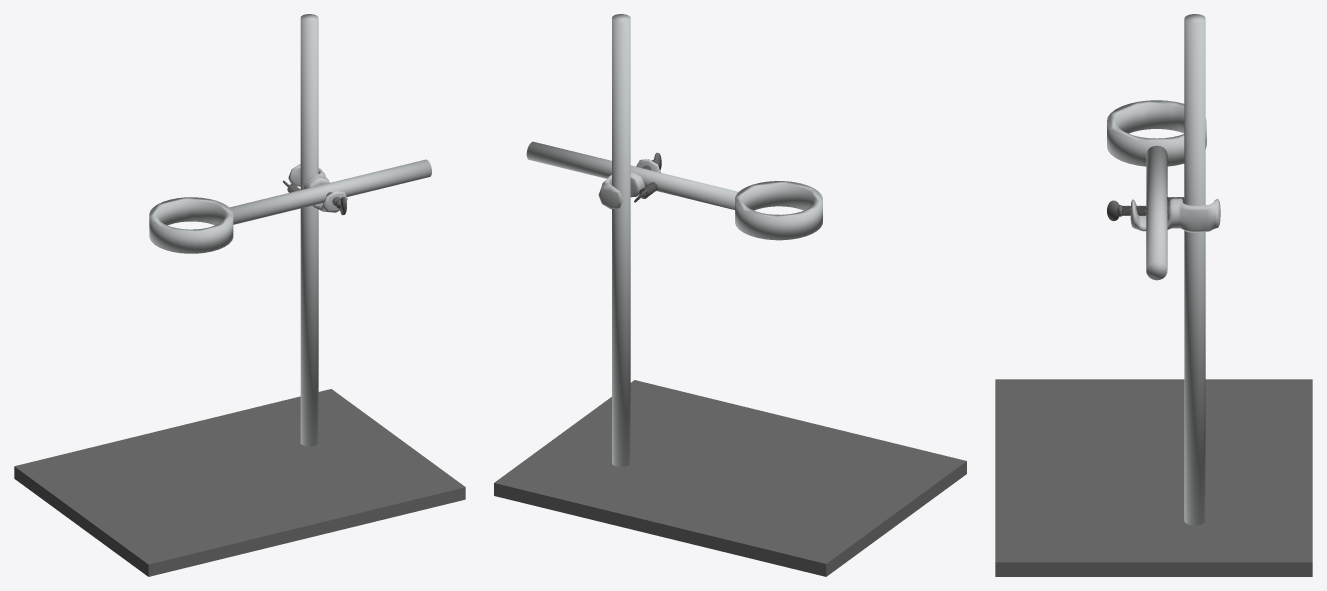
Rendered from FunnelStand.gltf.
3 renders of one model, left to right at view 1: azimuth 30°, elevation 25°; view 2: azimuth 150°, elevation 25°; view 3: azimuth 270°, elevation 25°, orthographic. The views are drawn at different scales.
Parts seen in each view (by area): view 1: Cylinder.028, Cube.006, Cube.001; view 2: Cylinder.028, Cube.006, Cube.001; view 3: Cylinder.028, Cube.006, Cube.001, Circle.004.
Boxes of the visible parts, x1,y1,x2,y2 form: Cylinder.028: (14, 14, 465, 576); Cube.006: (149, 159, 431, 253); Cube.001: (288, 164, 347, 212); Cylinder.028: (494, 14, 966, 576); Cube.006: (526, 141, 822, 240); Cube.001: (598, 159, 660, 209); Cylinder.028: (995, 14, 1312, 576); Cube.006: (1107, 100, 1206, 280); Cube.001: (1130, 198, 1220, 232); Circle.004: (1107, 200, 1146, 220).
Size of the model in its own units: 0.2657 by 0.3239 by 0.1779.
Materials: 5 (5 with a texture image).
